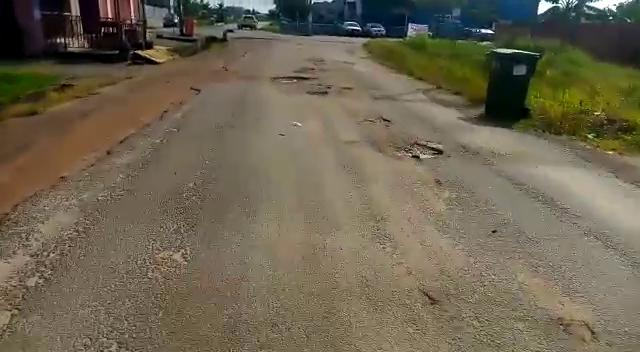pothole: (384, 138, 446, 162), (270, 73, 311, 82), (304, 87, 336, 97)
